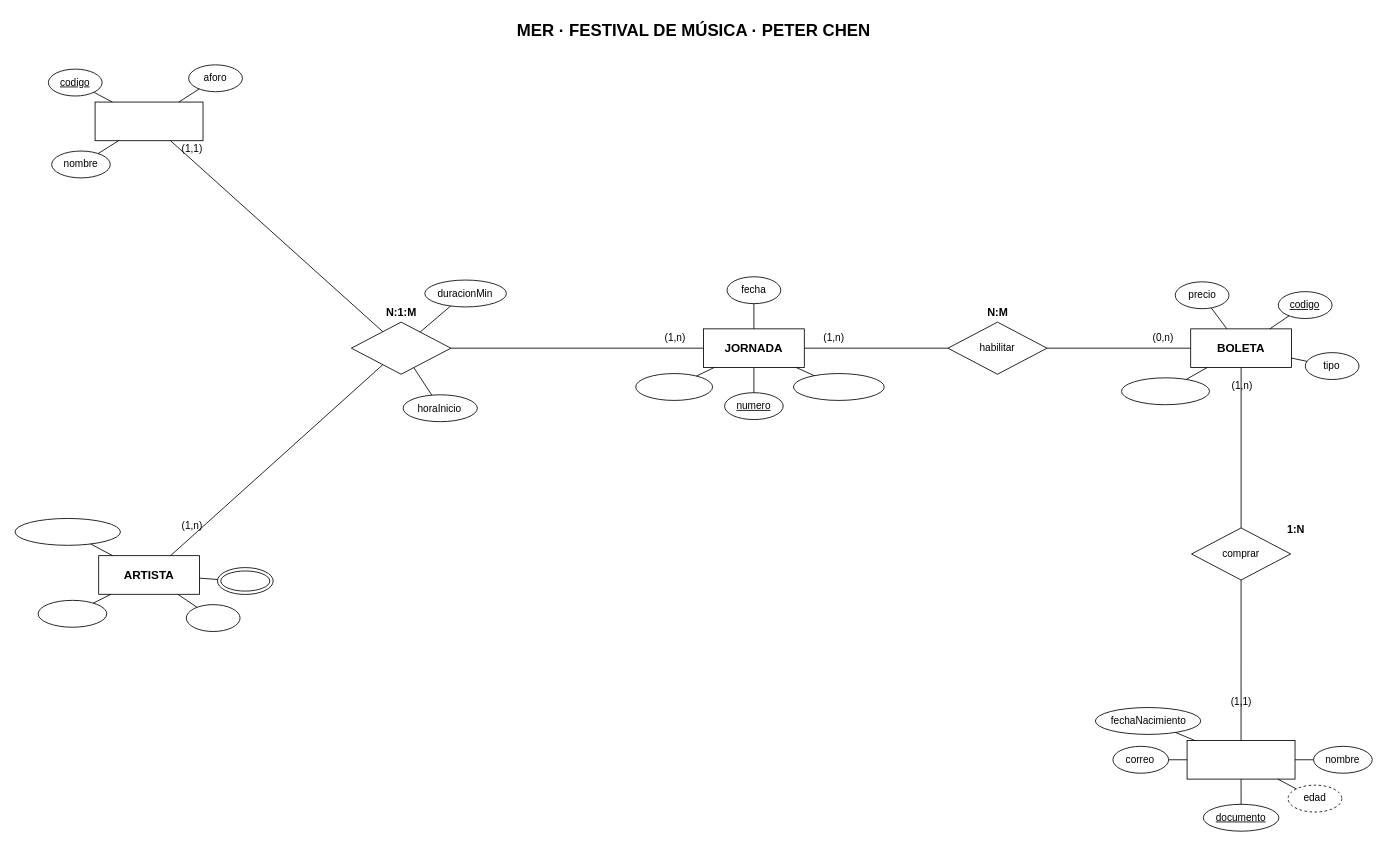
This 1387x846 diagram has some shape labels left out. The shapes that lost their labels are listed below. From the top down, each one's centre as x and y in pixels, then its label:
pixel 148 121: ESCENARIO
pixel 401 347: presentar
pixel 674 386: horaCierre
pixel 838 386: horaApertura
pixel 1165 391: fechaCompra
pixel 67 531: nombreArtistico
pixel 245 580: genero
pixel 72 613: idArtista
pixel 212 618: pais
pixel 1240 759: ASISTENTE
